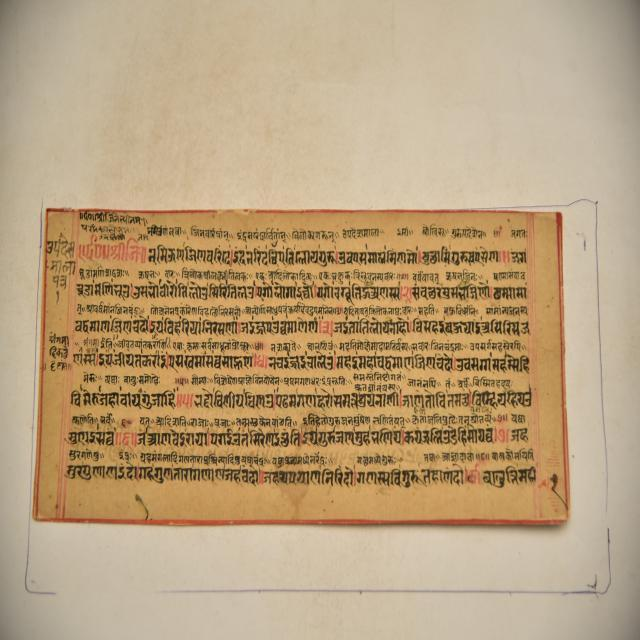text_paragraph: (29, 206, 565, 525)
